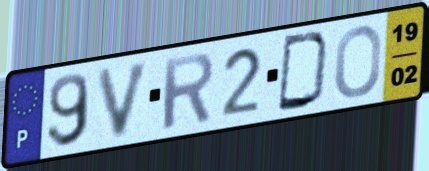2: (220, 46, 264, 119)
9: (46, 71, 92, 149)
D: (275, 30, 333, 114)
O: (332, 23, 384, 101)
R: (161, 50, 217, 133)
V: (94, 57, 154, 141)
